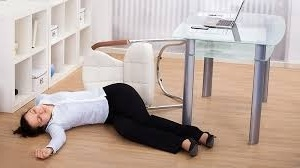fall: (11, 78, 219, 161)
